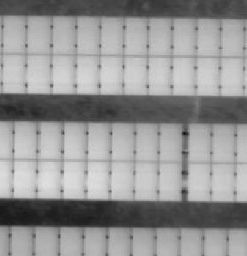solar: (47, 13, 79, 55), (60, 121, 92, 163), (23, 13, 54, 55), (73, 13, 104, 55), (96, 13, 127, 55), (120, 13, 151, 55), (146, 15, 177, 57), (169, 16, 200, 58), (193, 16, 224, 58), (215, 16, 246, 58), (192, 55, 223, 97), (169, 55, 200, 97), (144, 54, 175, 96), (121, 54, 152, 96), (96, 53, 127, 95), (72, 52, 103, 94), (49, 52, 80, 94), (23, 52, 54, 94), (36, 120, 67, 162), (83, 121, 114, 163), (108, 121, 139, 163), (131, 121, 162, 163), (154, 121, 185, 163), (185, 121, 216, 163), (210, 121, 241, 163), (209, 161, 240, 203), (185, 160, 216, 202), (154, 160, 185, 202), (131, 159, 162, 201), (106, 159, 137, 201), (83, 159, 114, 201), (59, 158, 90, 200), (35, 157, 66, 199), (9, 157, 40, 199), (1, 12, 31, 54), (217, 55, 247, 97), (10, 120, 40, 162), (1, 52, 30, 94)
